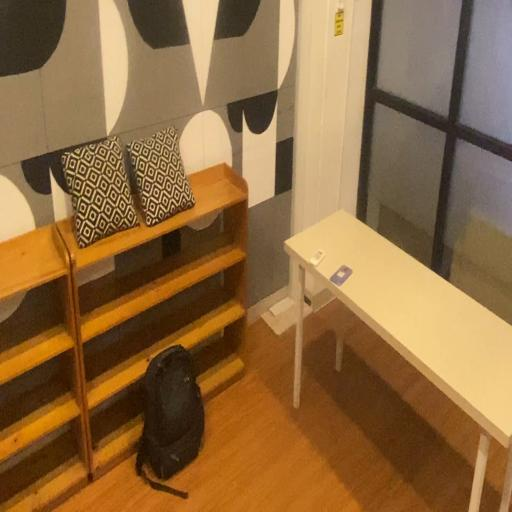bantal: (60, 131, 142, 248), (126, 122, 202, 231)
hp: (330, 256, 354, 291)
lemari: (53, 155, 260, 491), (0, 210, 91, 512)
meja: (279, 201, 512, 512)
remote AC: (308, 246, 328, 272)
tas ransel: (133, 340, 210, 502)
